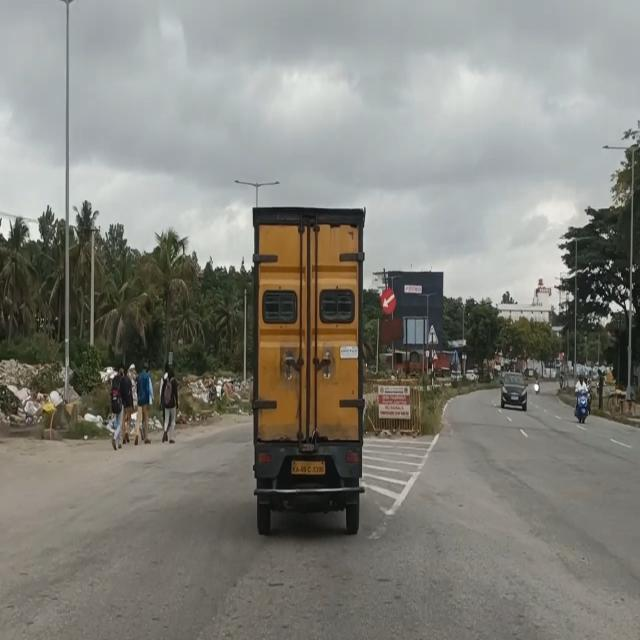bien_cam: (379, 287, 398, 316)
